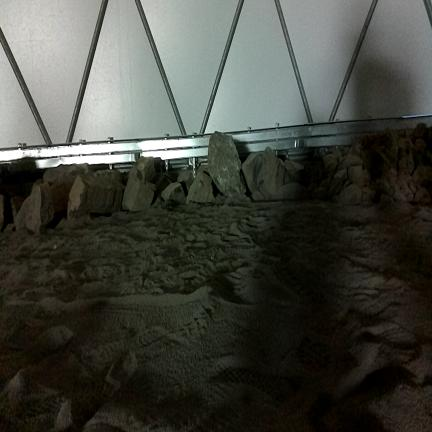Rock: (68, 170, 124, 218), (208, 132, 245, 196), (44, 164, 92, 212), (242, 147, 285, 199), (15, 183, 53, 233), (122, 167, 156, 211), (105, 352, 137, 394), (36, 326, 73, 354), (44, 164, 92, 184), (68, 176, 89, 219), (187, 171, 214, 203), (4, 371, 25, 404), (54, 399, 73, 432), (274, 182, 307, 200), (336, 184, 362, 205), (136, 157, 156, 182), (329, 169, 347, 196), (284, 160, 304, 184), (154, 173, 175, 195), (162, 183, 185, 203), (93, 170, 123, 184), (412, 164, 431, 186), (338, 154, 362, 170), (348, 165, 364, 188), (177, 169, 193, 192), (399, 152, 414, 174), (11, 197, 25, 220), (414, 187, 431, 205), (229, 222, 247, 238), (323, 154, 338, 173), (383, 169, 397, 186), (398, 138, 412, 155), (377, 177, 390, 195), (362, 187, 375, 202), (413, 139, 426, 154), (313, 187, 328, 200), (380, 194, 394, 207), (350, 142, 362, 157), (0, 195, 5, 229), (400, 181, 411, 196), (340, 179, 351, 193), (393, 191, 407, 201)
